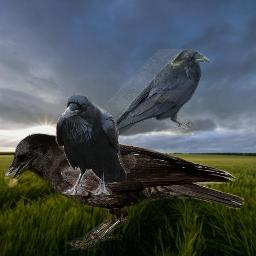Crow: (1, 132, 245, 250), (98, 49, 212, 141), (55, 93, 127, 195)
